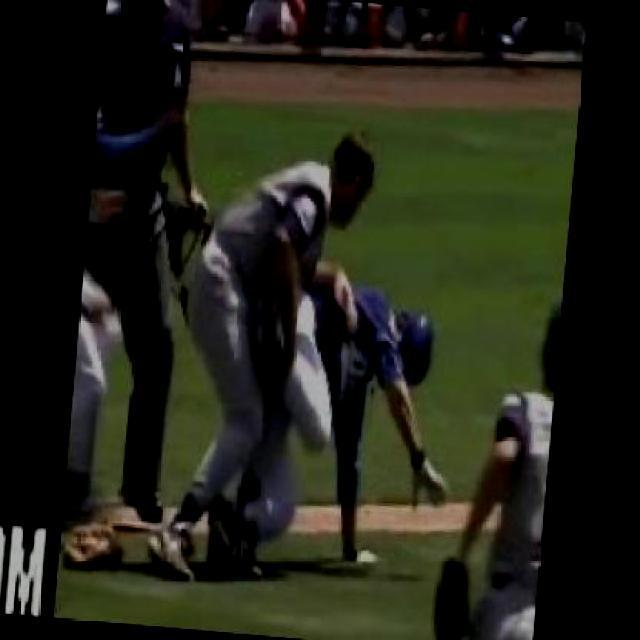fight: (153, 118, 473, 602)
